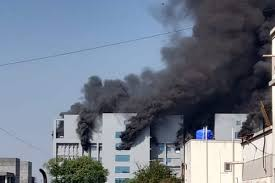smoke: (43, 1, 275, 153)
